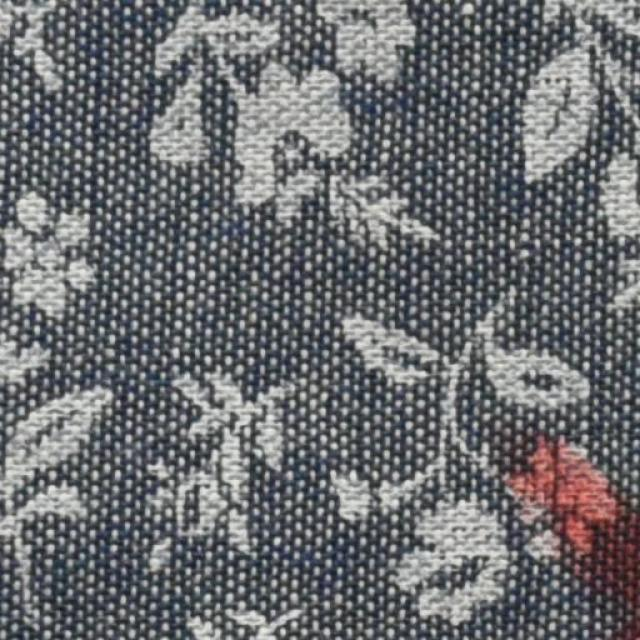Stain: (498, 434, 639, 639)
